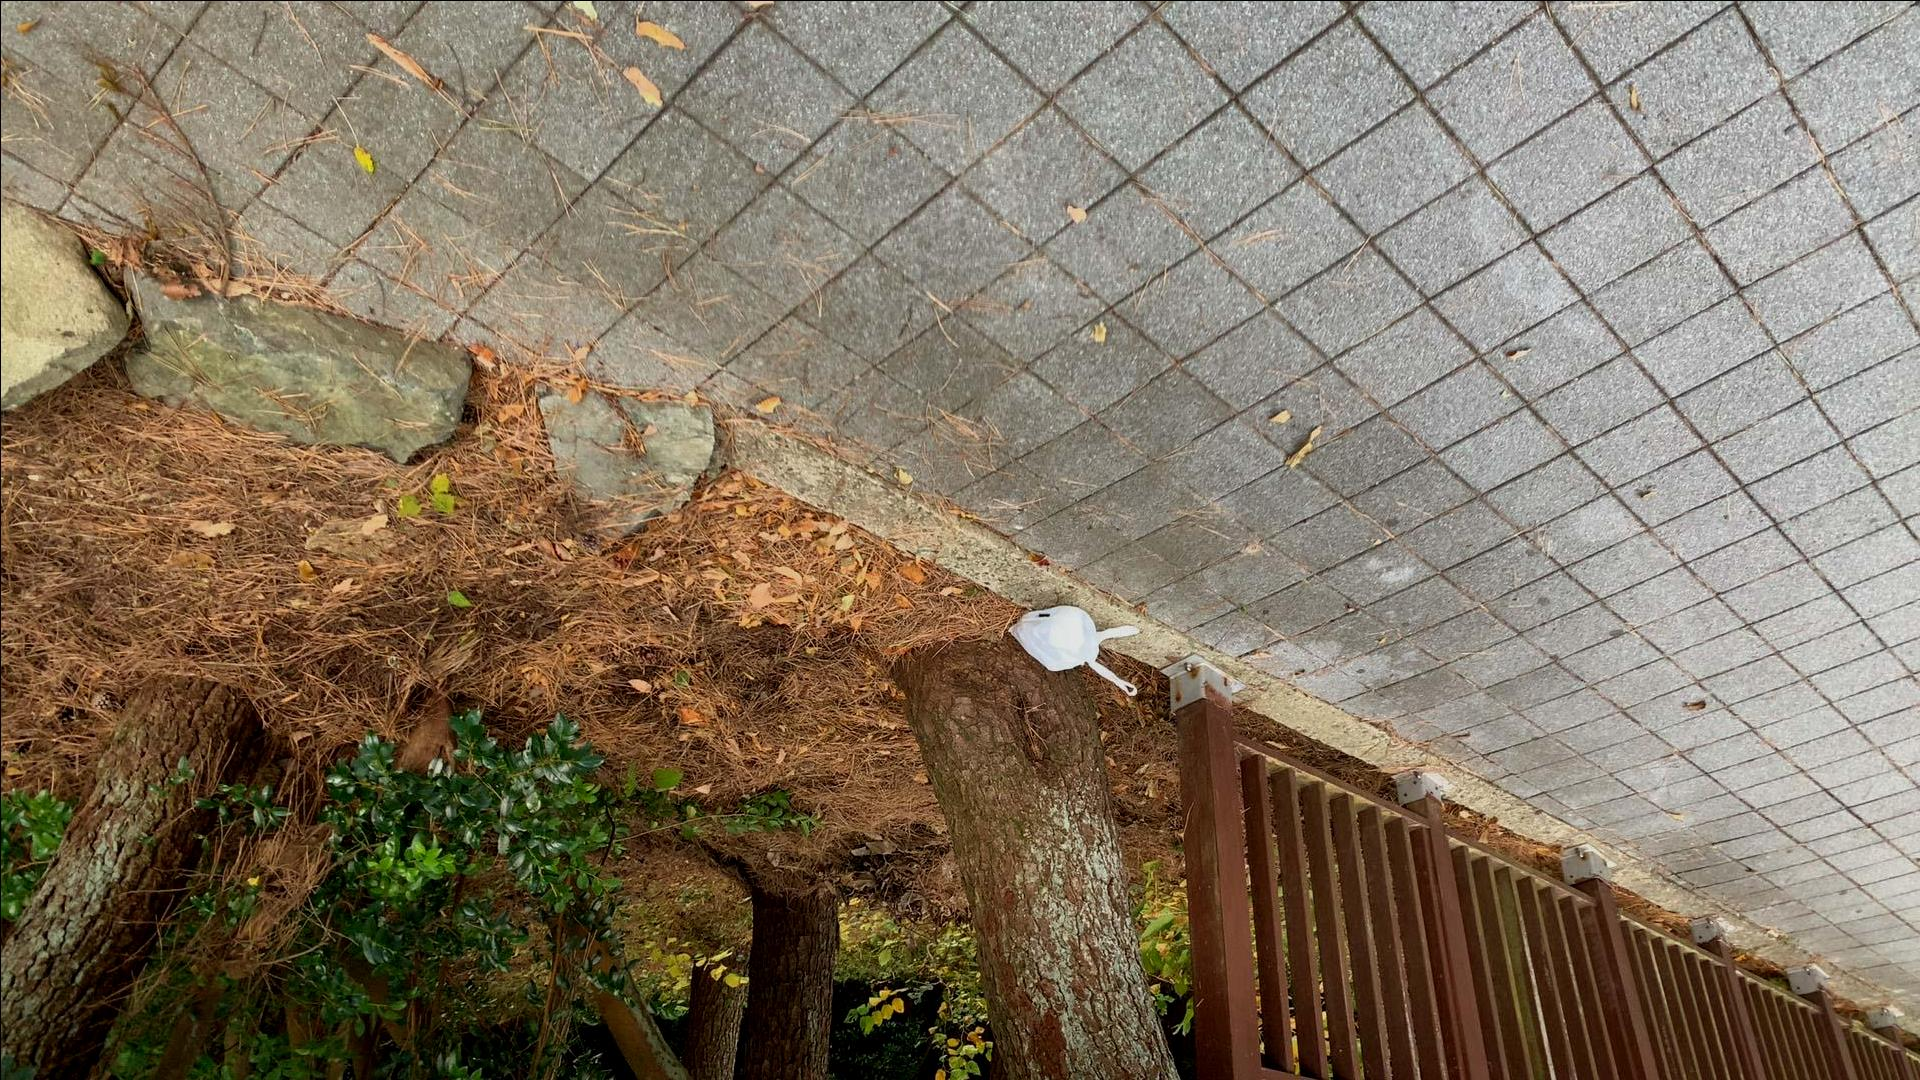white_bag: (1000, 593, 1156, 703)
